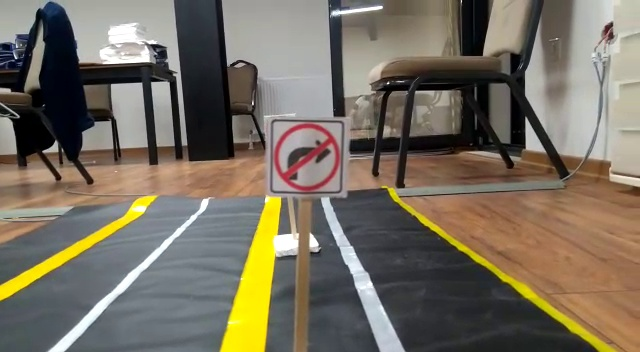saga_donulmez: (274, 119, 343, 197)
